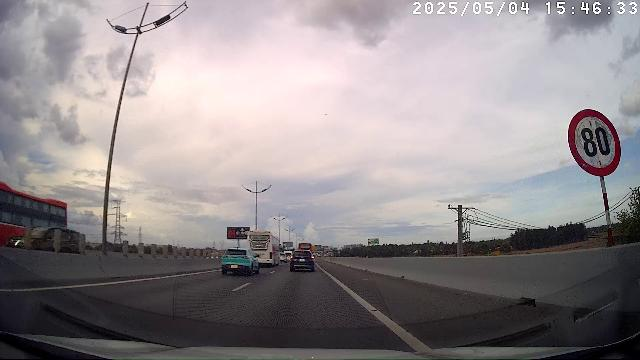127-toc-do-toi-da-80: (567, 105, 623, 176)
